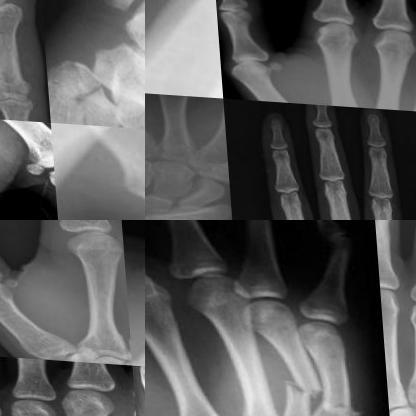fracture: (60, 79, 121, 123), (145, 195, 230, 219), (275, 367, 317, 406), (311, 386, 357, 415), (56, 220, 111, 227)
